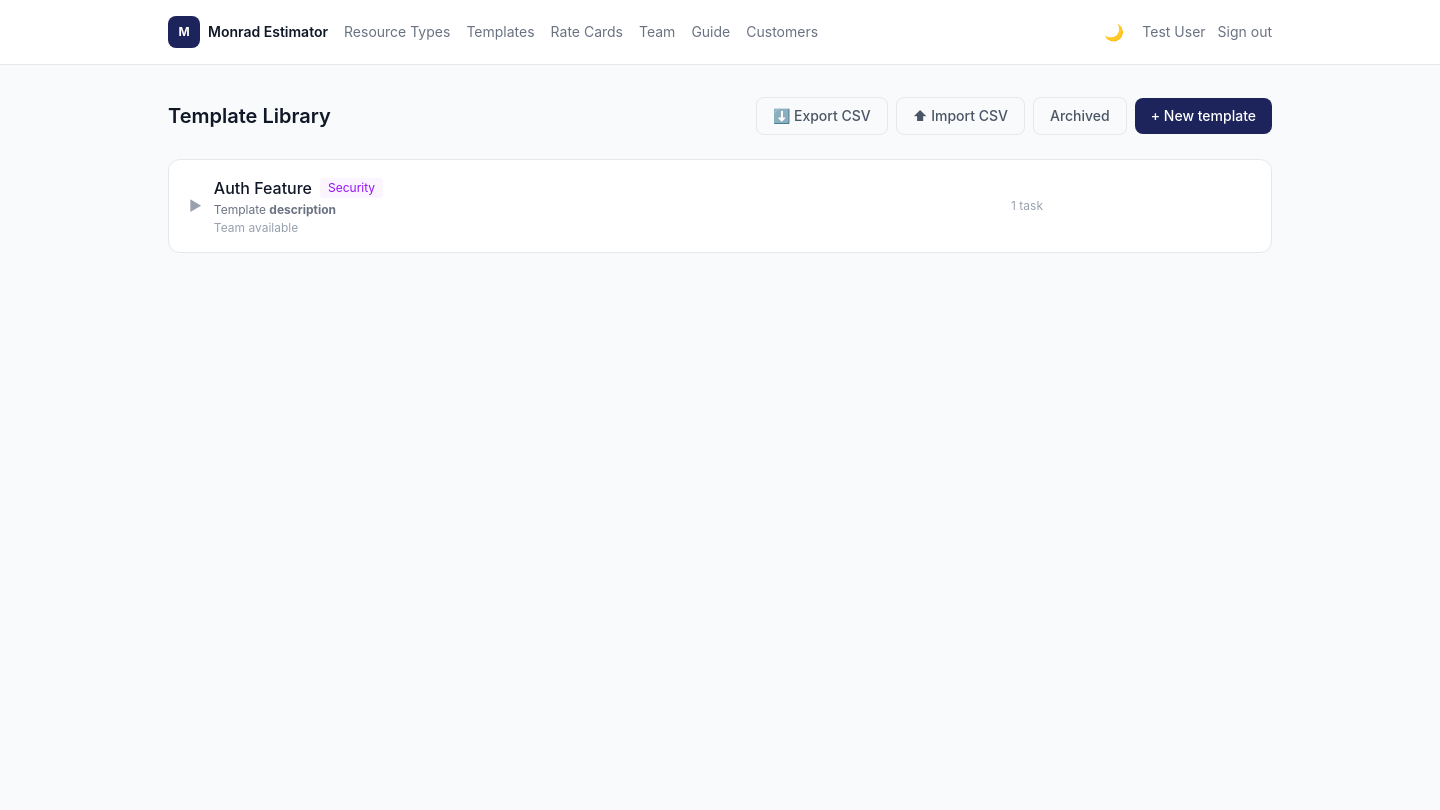
Test case: TemplateLibraryPage metadata display › renders task metadata as sanitised HTML once expanded
Step 1. Click the text "Auth Feature" → x=263, y=188, box [214,176,312,200]
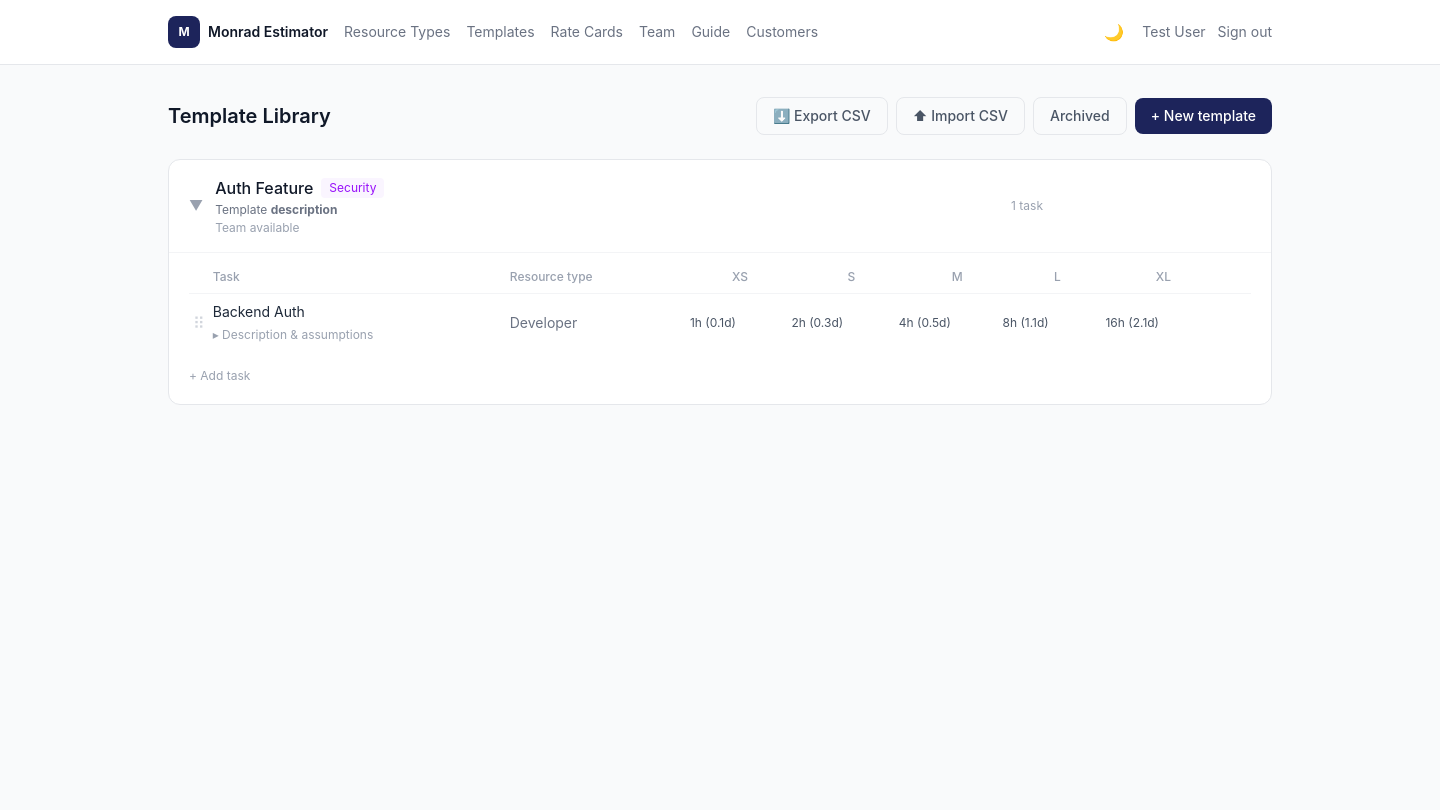
Step 2. Click the button "▸ Description & assumptions" → x=293, y=335, box [213,327,373,343]
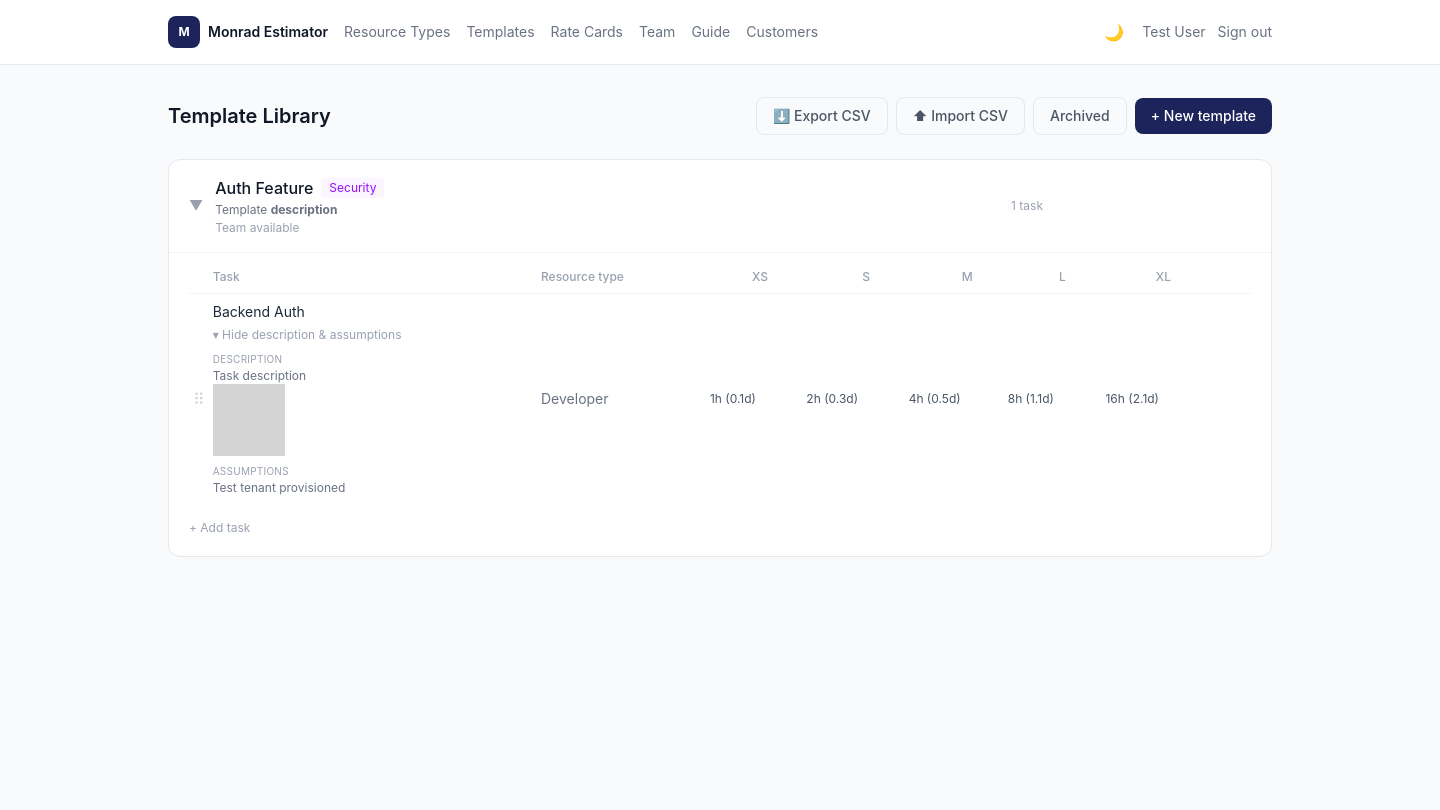
Check: the text "Task description" is shown, box [213,368,306,383]
Check: the text "Test tenant provisioned" is shown, box [213,480,345,495]
